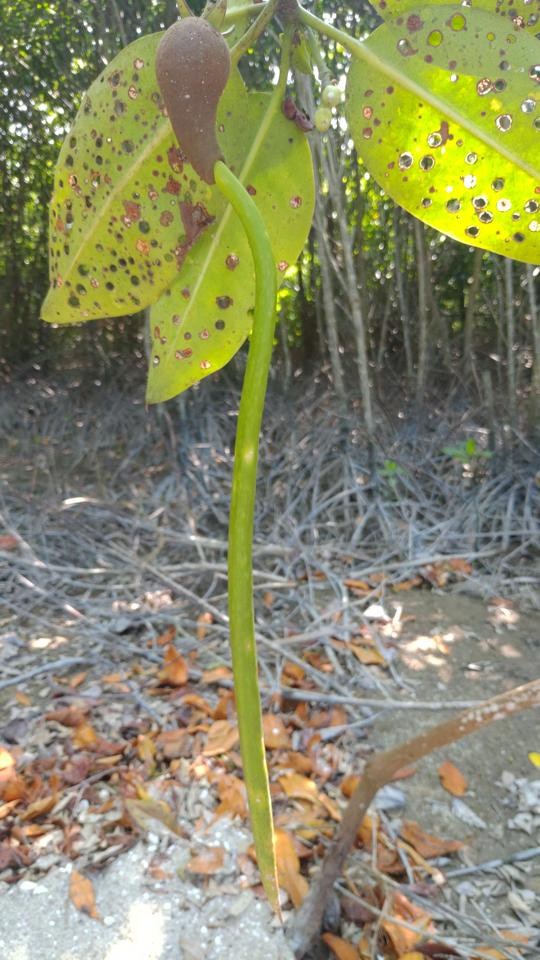mentah: (133, 8, 312, 932)
